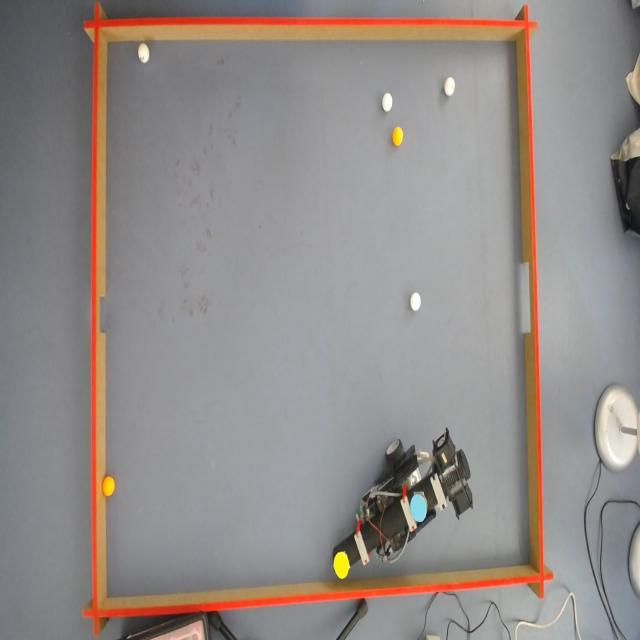orange: (102, 475, 116, 497), (392, 126, 405, 145)
robot: (334, 432, 481, 572)
robot-front: (334, 552, 349, 578)
robot-rear: (408, 492, 430, 527)
white: (136, 44, 148, 64), (409, 292, 421, 312), (380, 92, 392, 112), (443, 77, 455, 96)
